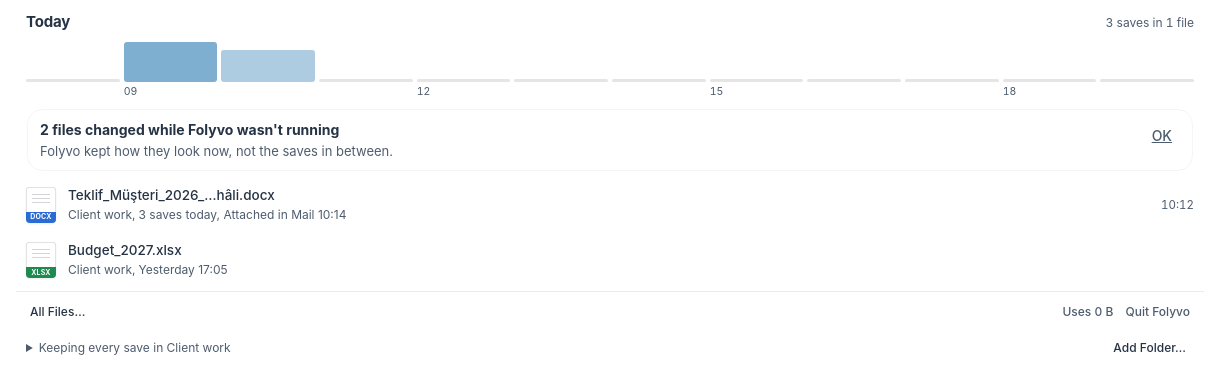
Test case: files changed while Folyvo was not running › says so once and goes away for good when dismissed
Check: the message shows "2 files changed while Folyvo wasn't running", box [28,110,1192,170]
Check: the message shows "Folyvo kept how they look now, not the saves in between.", box [28,110,1192,170]
Click the button "OK": click(1162, 136) [1144,120,1180,152]
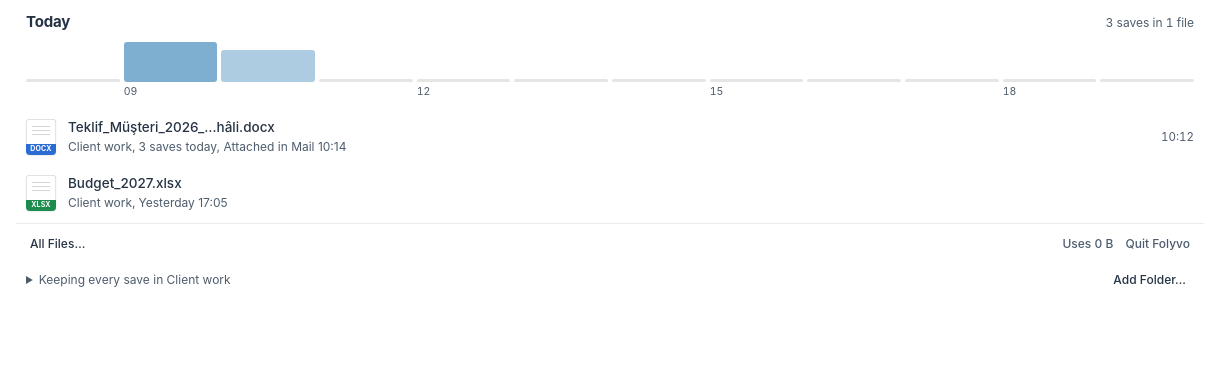
Check: the message is gone
